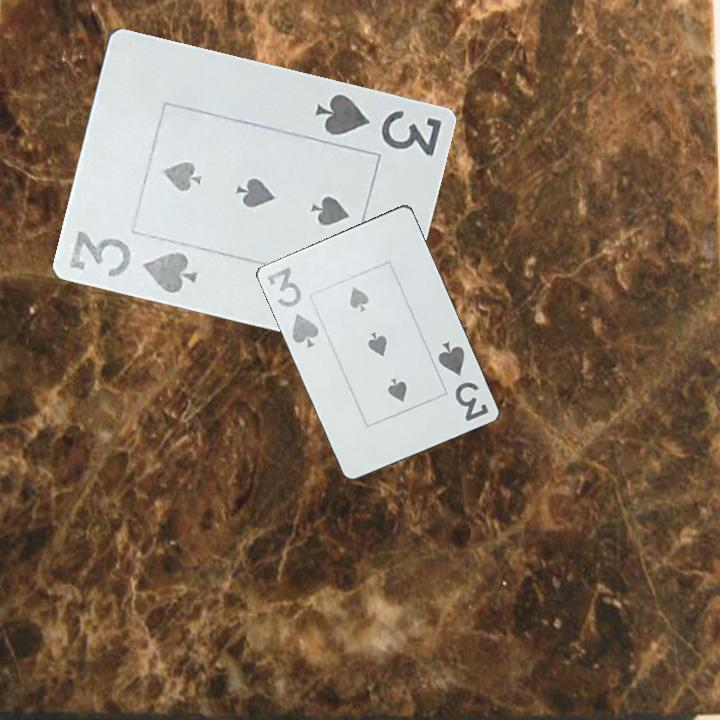3s: (64, 227, 200, 297), (311, 90, 444, 160), (263, 263, 322, 351), (434, 337, 491, 424)
